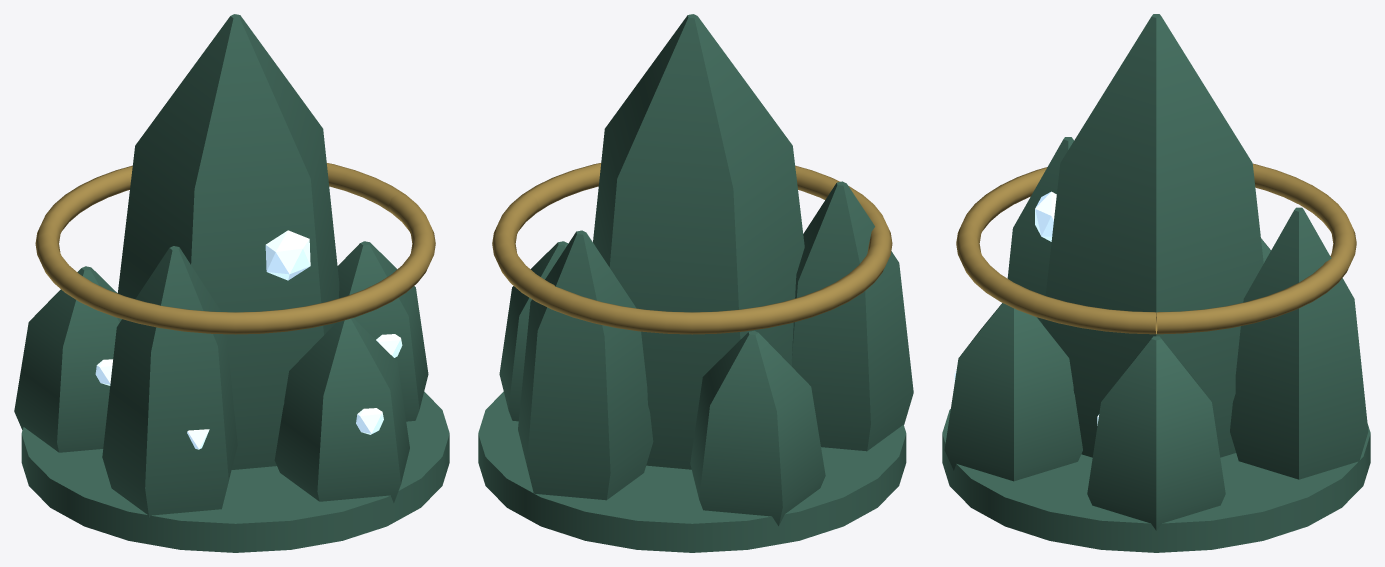
The picture shows the model from 3 angles, left to right: view 1: azimuth 30°, elevation 25°; view 2: azimuth 150°, elevation 25°; view 3: azimuth 270°, elevation 25°; orthographic projection.
Visible parts, largest first — view 1: Faceted crystal tower, Faceted crystal tower.004, Foundation drum, Faceted crystal tower.005, Crystal conductive halo, Faceted crystal tower.003, Faceted crystal tower.001, Central luminous node, Crystal luminous node.004; view 2: Faceted crystal tower, Faceted crystal tower.002, Foundation drum, Faceted crystal tower.004, Faceted crystal tower.003, Crystal conductive halo, Faceted crystal tower.001; view 3: Faceted crystal tower, Faceted crystal tower.002, Foundation drum, Faceted crystal tower.001, Faceted crystal tower.005, Crystal conductive halo, Faceted crystal tower.004, Central luminous node.
Part boxes in pixels (x1=…): Faceted crystal tower: x1=117, y1=14, x2=339, y2=469; Faceted crystal tower.004: x1=102, y1=246, x2=237, y2=517; Foundation drum: x1=21, y1=391, x2=449, y2=552; Faceted crystal tower.005: x1=274, y1=318, x2=409, y2=502; Crystal conductive halo: x1=35, y1=163, x2=435, y2=334; Faceted crystal tower.003: x1=14, y1=266, x2=121, y2=452; Faceted crystal tower.001: x1=337, y1=241, x2=428, y2=421; Central luminous node: x1=265, y1=230, x2=310, y2=280; Crystal luminous node.004: x1=356, y1=408, x2=383, y2=434; Faceted crystal tower: x1=593, y1=14, x2=804, y2=469; Faceted crystal tower.002: x1=518, y1=230, x2=653, y2=500; Foundation drum: x1=478, y1=391, x2=906, y2=552; Faceted crystal tower.004: x1=791, y1=181, x2=913, y2=451; Faceted crystal tower.003: x1=690, y1=330, x2=825, y2=526; Crystal conductive halo: x1=492, y1=163, x2=892, y2=334; Faceted crystal tower.001: x1=499, y1=241, x2=568, y2=421; Faceted crystal tower: x1=1042, y1=14, x2=1263, y2=457; Faceted crystal tower.002: x1=1230, y1=207, x2=1368, y2=479; Foundation drum: x1=942, y1=409, x2=1370, y2=552; Faceted crystal tower.001: x1=1087, y1=336, x2=1225, y2=530; Faceted crystal tower.005: x1=944, y1=303, x2=1082, y2=481; Crystal conductive halo: x1=956, y1=163, x2=1356, y2=334; Faceted crystal tower.004: x1=1007, y1=137, x2=1073, y2=323; Central luminous node: x1=1035, y1=191, x2=1056, y2=241.
Size of the model in its own units: 2.04 by 2.3 by 2.
